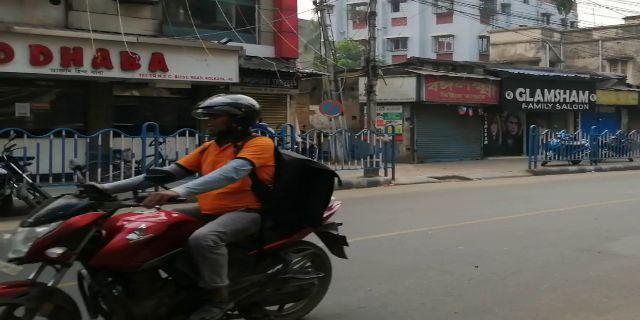Motorbike: (1, 89, 344, 316)
